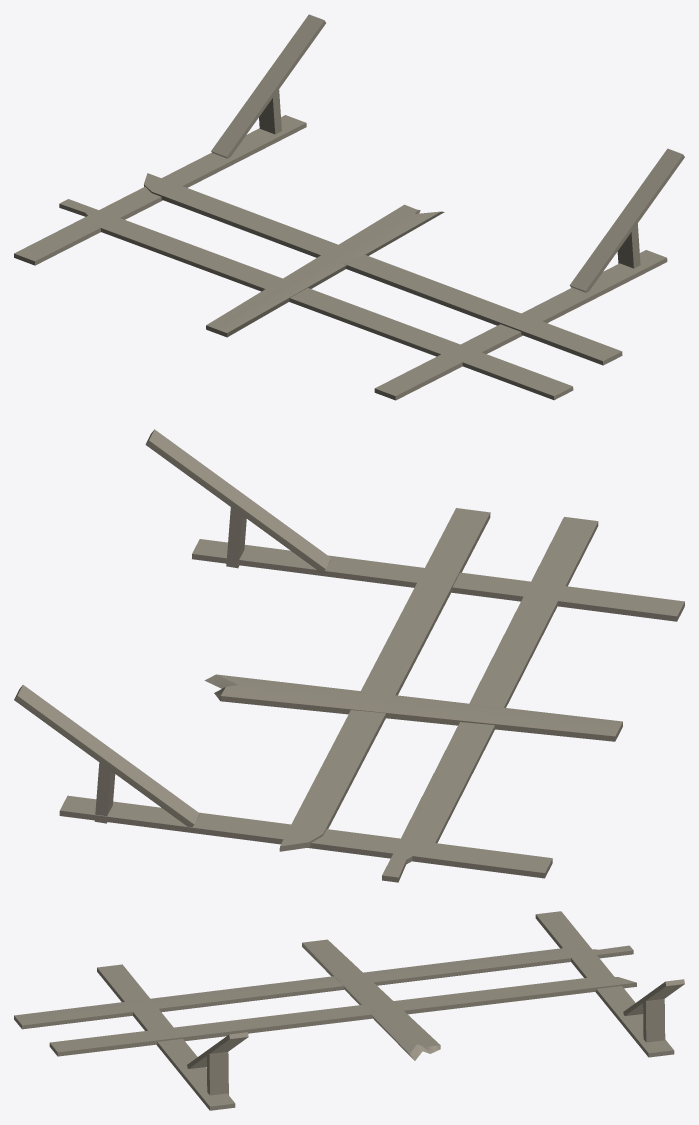
File: WALL 3 HEK.fbx
The picture shows the model from 3 angles, top to bottom: view 1: azimuth 30°, elevation 25°; view 2: azimuth 150°, elevation 25°; view 3: azimuth 270°, elevation 25°; orthographic projection. The views are drawn at different scales.
Parts seen in each view (by area): view 1: WALL_3_HEK; view 2: WALL_3_HEK; view 3: WALL_3_HEK.
Boxes of the visible parts, box(x1,y1,x2,y2) form: WALL_3_HEK: box(14, 14, 684, 400); WALL_3_HEK: box(14, 429, 684, 882); WALL_3_HEK: box(14, 911, 684, 1110).
Bounding box in the file's own units: 4.31 × 0.9414 × 5.39.
